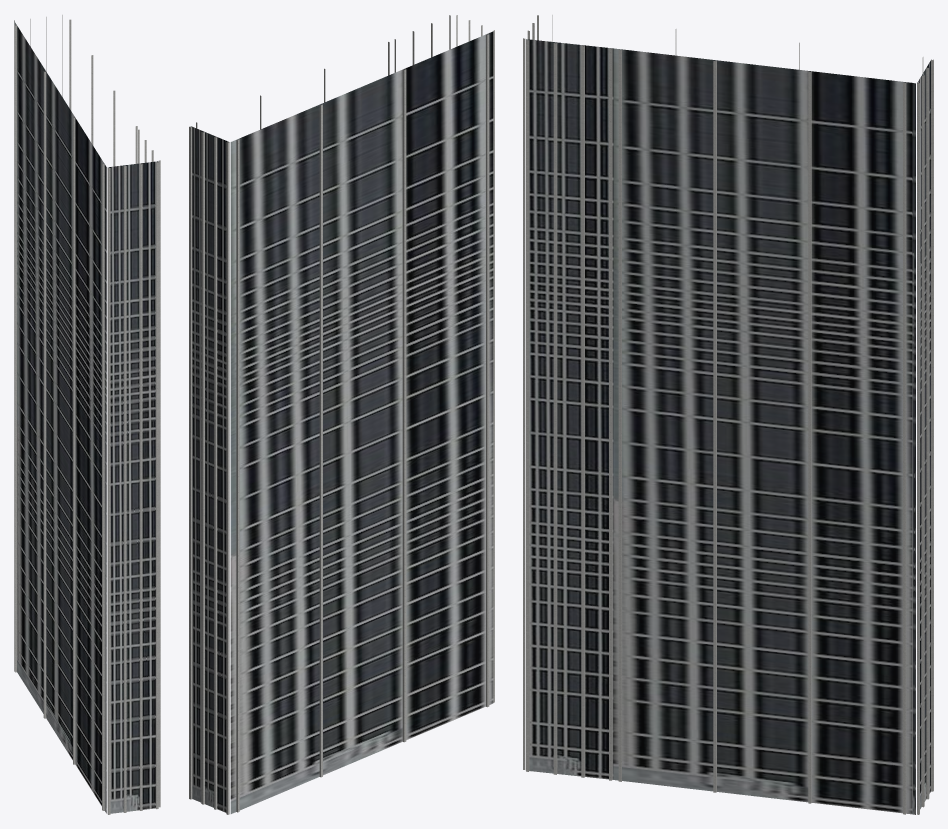
3 renders of one model, left to right at view 1: azimuth 30°, elevation 25°; view 2: azimuth 150°, elevation 25°; view 3: azimuth 270°, elevation 25°, orthographic. The views are drawn at different scales.
Visible parts, largest first — view 1: Surveyed facade, Projecting piers; view 2: Surveyed facade, Projecting piers; view 3: Surveyed facade, Projecting piers.
Part boxes in pixels (x1,y1,x2,y2): Surveyed facade: (14, 21, 158, 813); Projecting piers: (14, 15, 160, 814); Surveyed facade: (190, 31, 493, 813); Projecting piers: (189, 15, 494, 814); Surveyed facade: (526, 39, 931, 814); Projecting piers: (523, 15, 933, 814).
Size of the model in its own units: 36.21 by 178 by 90.62.
2 materials, 2 textured.
